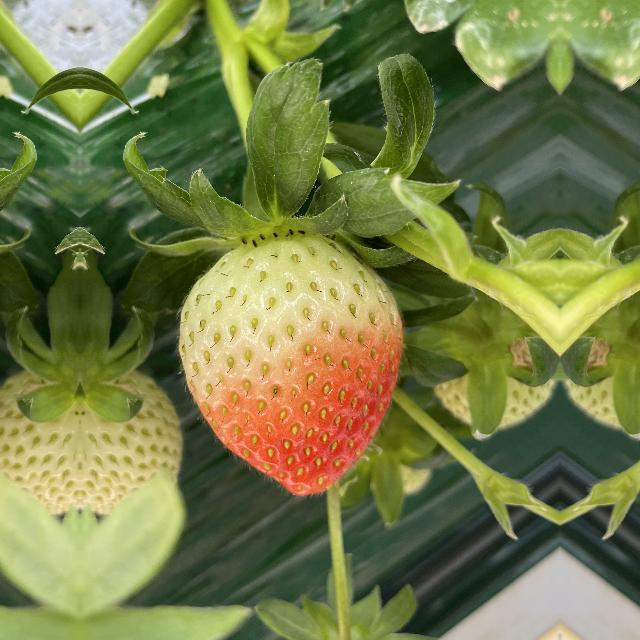Health_25: (80, 344, 182, 528), (0, 344, 80, 527)
Health_75: (178, 226, 416, 488)
